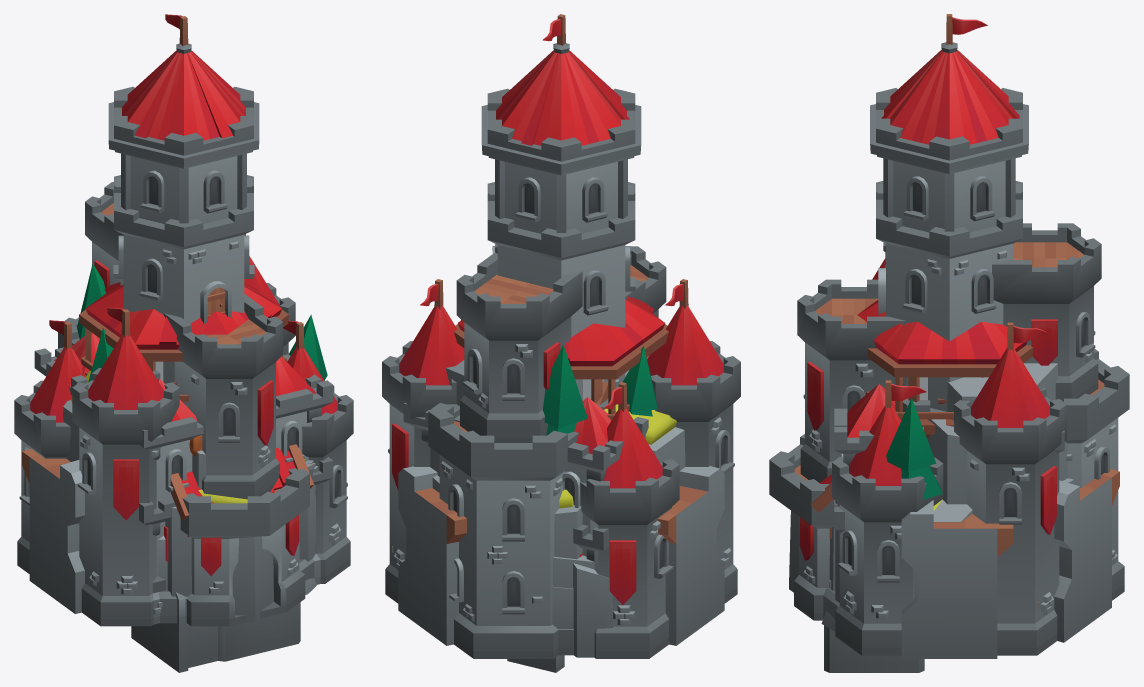
The model's file is bld.glb.
3 views of the same model, side by side, from view 1: azimuth 30°, elevation 25°; view 2: azimuth 150°, elevation 25°; view 3: azimuth 270°, elevation 25° (orthographic). The views are drawn at different scales.
Parts seen in each view (by area): view 1: building_castle_red, building_barracks_red, building_watermill_red, mountain_C_grass, wall_corner_A_outside, building_tower_B_top_red, mountain_A_grass_trees, wall_straight; view 2: building_castle_red, wall_corner_A_outside, building_tower_B_top_red, building_barracks_red, mountain_A_grass_trees, mountain_C_grass, building_mine_red, mountain_B, wall_straight, building_watermill_red; view 3: building_castle_red, wall_straight, wall_corner_A_outside, building_tower_B_top_red, mountain_B, building_barracks_red, building_watermill_red, mountain_A_grass_trees, mountain_C_grass.
Boxes of the visible parts, left/top/right/bottom form: building_castle_red: left=14, top=14, right=353, bottom=626; building_barracks_red: left=34, top=332, right=333, bottom=624; building_watermill_red: left=131, top=444, right=313, bottom=672; mountain_C_grass: left=63, top=371, right=315, bottom=622; wall_corner_A_outside: left=22, top=449, right=79, bottom=613; building_tower_B_top_red: left=79, top=281, right=288, bottom=408; mountain_A_grass_trees: left=77, top=263, right=327, bottom=560; wall_straight: left=22, top=449, right=84, bottom=613; building_castle_red: left=382, top=14, right=740, bottom=658; wall_corner_A_outside: left=398, top=466, right=724, bottom=645; building_tower_B_top_red: left=454, top=296, right=668, bottom=420; building_barracks_red: left=403, top=355, right=649, bottom=561; mountain_A_grass_trees: left=461, top=319, right=657, bottom=628; mountain_C_grass: left=432, top=404, right=685, bottom=559; building_mine_red: left=573, top=563, right=613, bottom=657; mountain_B: left=430, top=360, right=594, bottom=588; wall_straight: left=658, top=466, right=715, bottom=520; building_watermill_red: left=507, top=655, right=564, bottom=672; building_castle_red: left=769, top=14, right=1129, bottom=655; wall_straight: left=901, top=500, right=1013, bottom=658; wall_corner_A_outside: left=1054, top=468, right=1119, bottom=642; building_tower_B_top_red: left=857, top=300, right=1033, bottom=438; mountain_B: left=914, top=363, right=1067, bottom=597; building_barracks_red: left=834, top=384, right=1064, bottom=607; building_watermill_red: left=811, top=474, right=924, bottom=672; mountain_A_grass_trees: left=835, top=398, right=942, bottom=510; mountain_C_grass: left=789, top=478, right=1074, bottom=602.
Bounding box in the file's own units: 2 × 4.33 × 2.26.
1 material, 1 textured.
